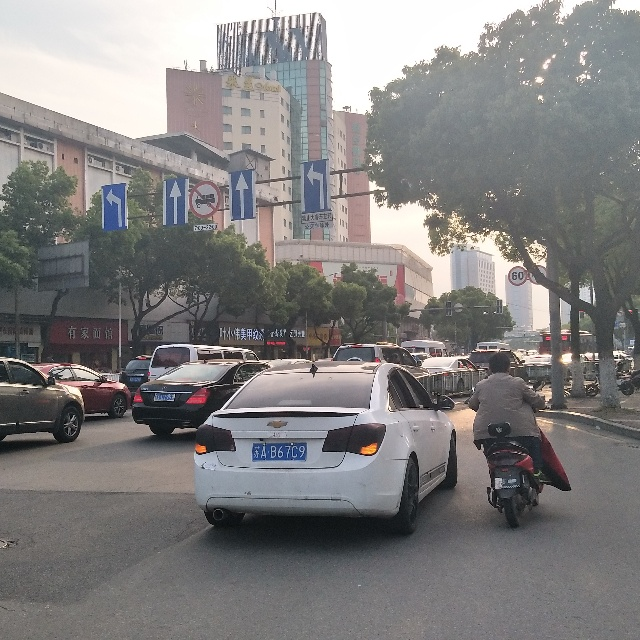left: (300, 159, 330, 214), (100, 183, 128, 232)
straight: (229, 169, 256, 221), (162, 179, 189, 225)
